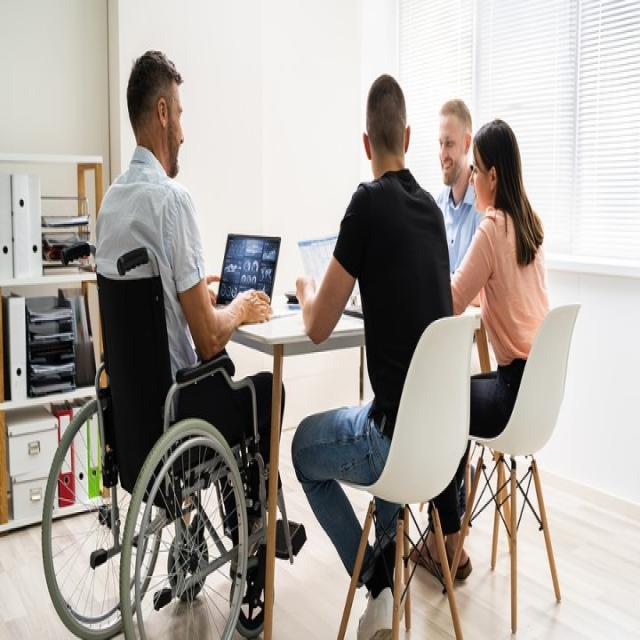wheelchairs: (37, 232, 311, 640)
